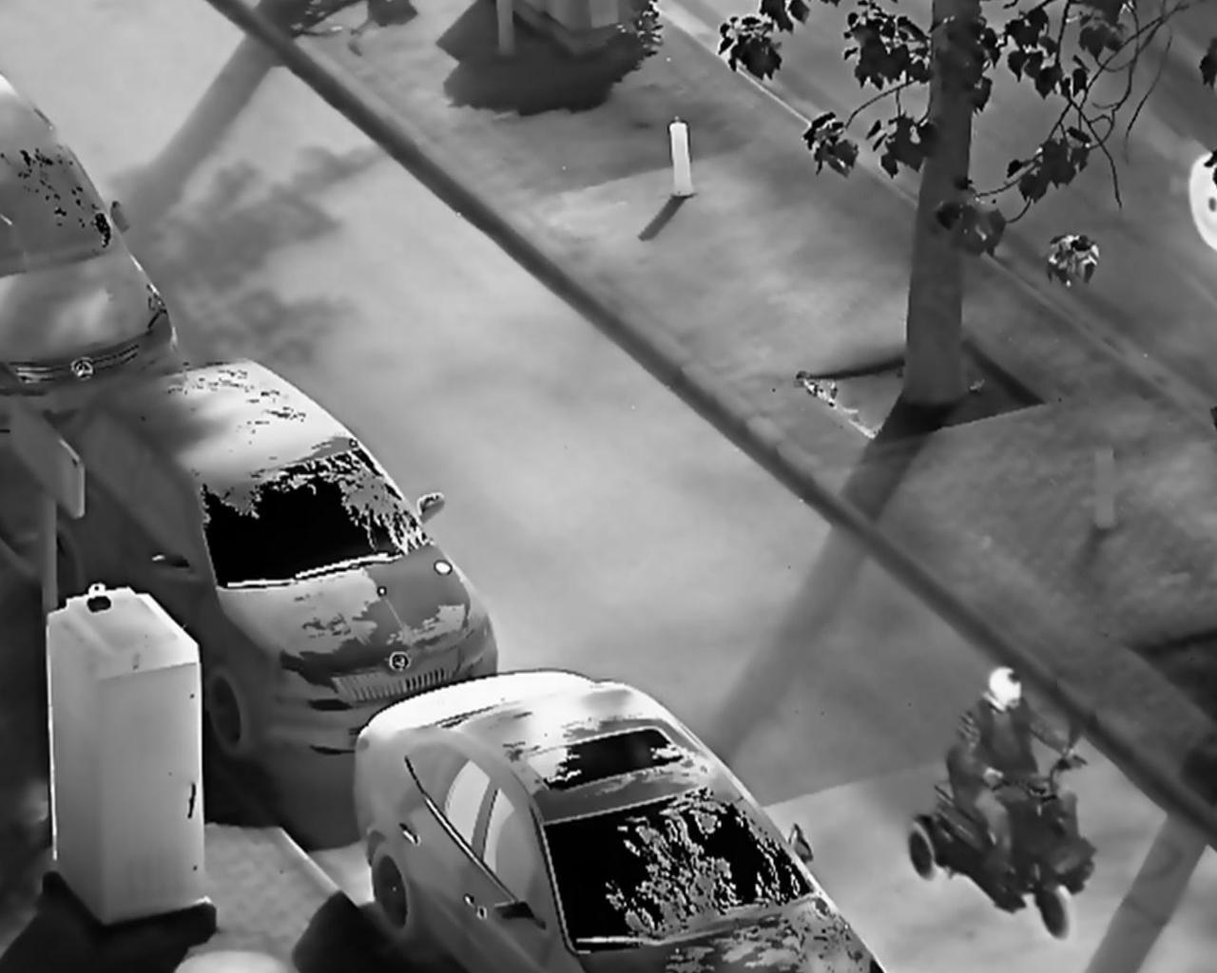person: (945, 663, 1091, 916)
